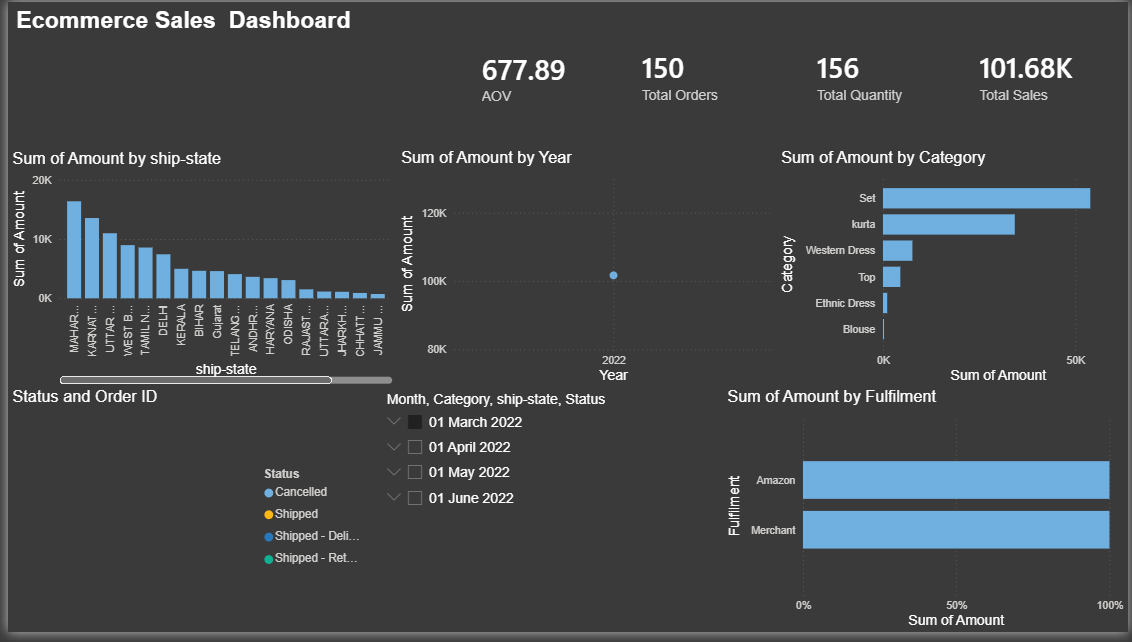

The page's visual inventory and layout, read from the dashboard file:
{"tool":"powerbi","page":{"name":"Page 1","canvas":[1280,720],"ordinal":0},"visuals":[{"type":"cardVisual","fields":{"Data":["final_sales.AOV"]},"box":[511.4,1.4,182.9,167.1],"z":0},{"type":"cardVisual","fields":{"Data":["final_sales.Total Orders"]},"box":[694.3,0,200,167.1],"z":1000},{"type":"cardVisual","fields":{"Data":["final_sales.Total Quantity"]},"box":[894.3,0,200,167.1],"z":2000},{"type":"cardVisual","fields":{"Data":["final_sales.Total Sales"]},"box":[1080,0,200,167.1],"z":3000},{"type":"lineChart","fields":{"Category":["final_sales.Month.Variation.Date Hierarchy.Year","final_sales.Month.Variation.Date Hierarchy.Quarter","final_sales.Month.Variation.Date Hierarchy.Month","final_sales.Month.Variation.Date Hierarchy.Day"],"Y":["Sum(final_sales.Amount)"]},"box":[444.3,167.1,434.3,272.9],"z":3001},{"type":"clusteredBarChart","fields":{"Category":["final_sales.Category"],"Y":["Sum(final_sales.Amount)"]},"box":[878.6,167.1,401.4,272.9],"z":3002},{"type":"pieChart","fields":{"Category":["final_sales.Status"],"Series":["final_sales.Order ID"]},"box":[0,440,420,280],"z":3003},{"type":"slicer","fields":{"Values":["final_sales.Month","final_sales.Category","final_sales.ship-state","final_sales.Status"]},"box":[420,440,397.1,280],"z":3004},{"type":"lineClusteredColumnComboChart","fields":{"Category":["final_sales.ship-state"],"Y":["Sum(final_sales.Amount)"]},"box":[0,168.6,444.3,272.9],"z":3005},{"type":"hundredPercentStackedBarChart","fields":{"Category":["final_sales.Fulfilment"],"Y":["Sum(final_sales.Amount)"]},"box":[817.1,440,462.9,280],"z":3006},{"type":"textbox","box":[4.3,1.4,488.6,61.4],"z":3008}]}

Visuals, with their boxes in screenshot pixels (x1, y1, x2, y2), scaled from the page's 1280x720 canvas onto the 1132x642 screenshot:
cardVisual - final_sales.AOV: detection(452, 1, 614, 150)
cardVisual - final_sales.Total Orders: detection(614, 0, 791, 149)
cardVisual - final_sales.Total Quantity: detection(791, 0, 968, 149)
cardVisual - final_sales.Total Sales: detection(955, 0, 1131, 149)
lineChart - final_sales.Month.Variation.Date Hierarchy.Year x final_sales.Month.Variation.Date Hierarchy.Quarter: detection(393, 149, 777, 392)
clusteredBarChart - final_sales.Category x Sum(final_sales.Amount): detection(777, 149, 1131, 392)
pieChart - final_sales.Status x final_sales.Order ID: detection(0, 392, 371, 641)
slicer - final_sales.Month x final_sales.Category: detection(371, 392, 723, 641)
lineClusteredColumnComboChart - final_sales.ship-state x Sum(final_sales.Amount): detection(0, 150, 393, 394)
hundredPercentStackedBarChart - final_sales.Fulfilment x Sum(final_sales.Amount): detection(723, 392, 1131, 641)
textbox: detection(4, 1, 436, 56)
